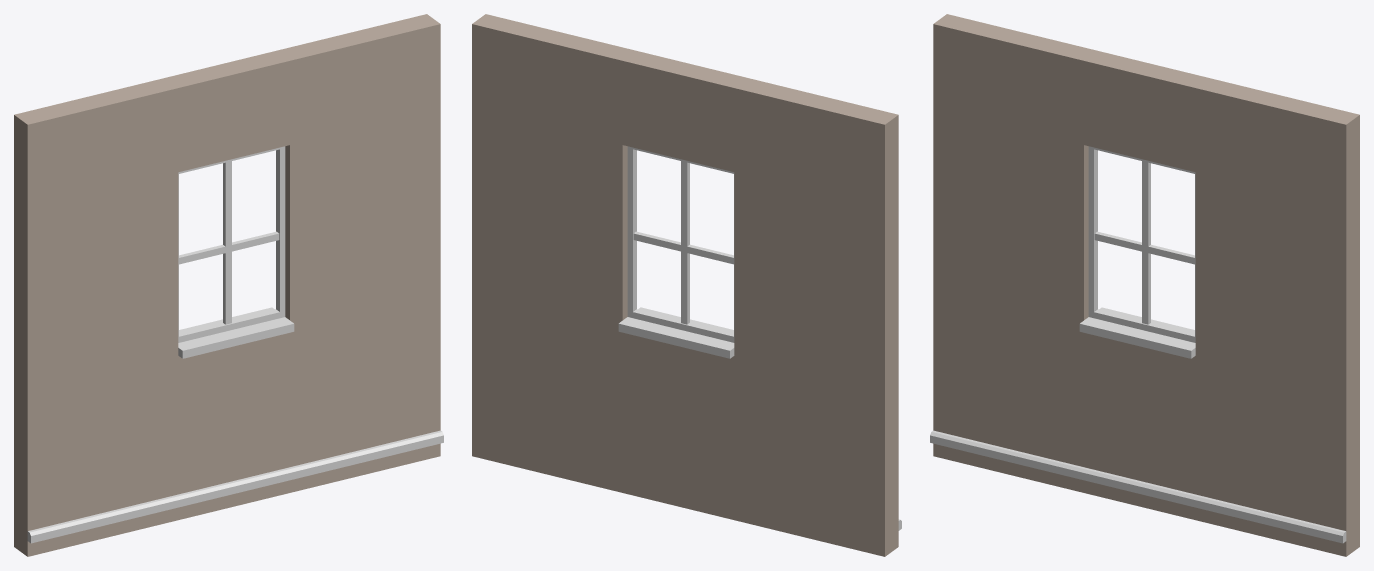
File: WallFloor2_19_dra.glb
3 renders of one model, left to right at view 1: azimuth 30°, elevation 25°; view 2: azimuth 150°, elevation 25°; view 3: azimuth 330°, elevation 25°, orthographic.
Parts seen in each view (by area): view 1: WallFloor2_19; view 2: WallFloor2_19; view 3: WallFloor2_19.
Part boxes in pixels (x1,y1,x2,y2): WallFloor2_19: (14,14,443,556); WallFloor2_19: (472,14,901,556); WallFloor2_19: (930,14,1359,556).
Bounding box in the file's own units: 2.5 × 2.5 × 0.2333.
1 material, 1 textured.
